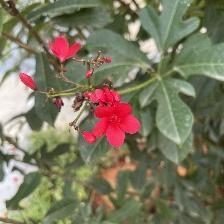jatropha: (92, 98, 142, 148), (51, 35, 83, 66)
